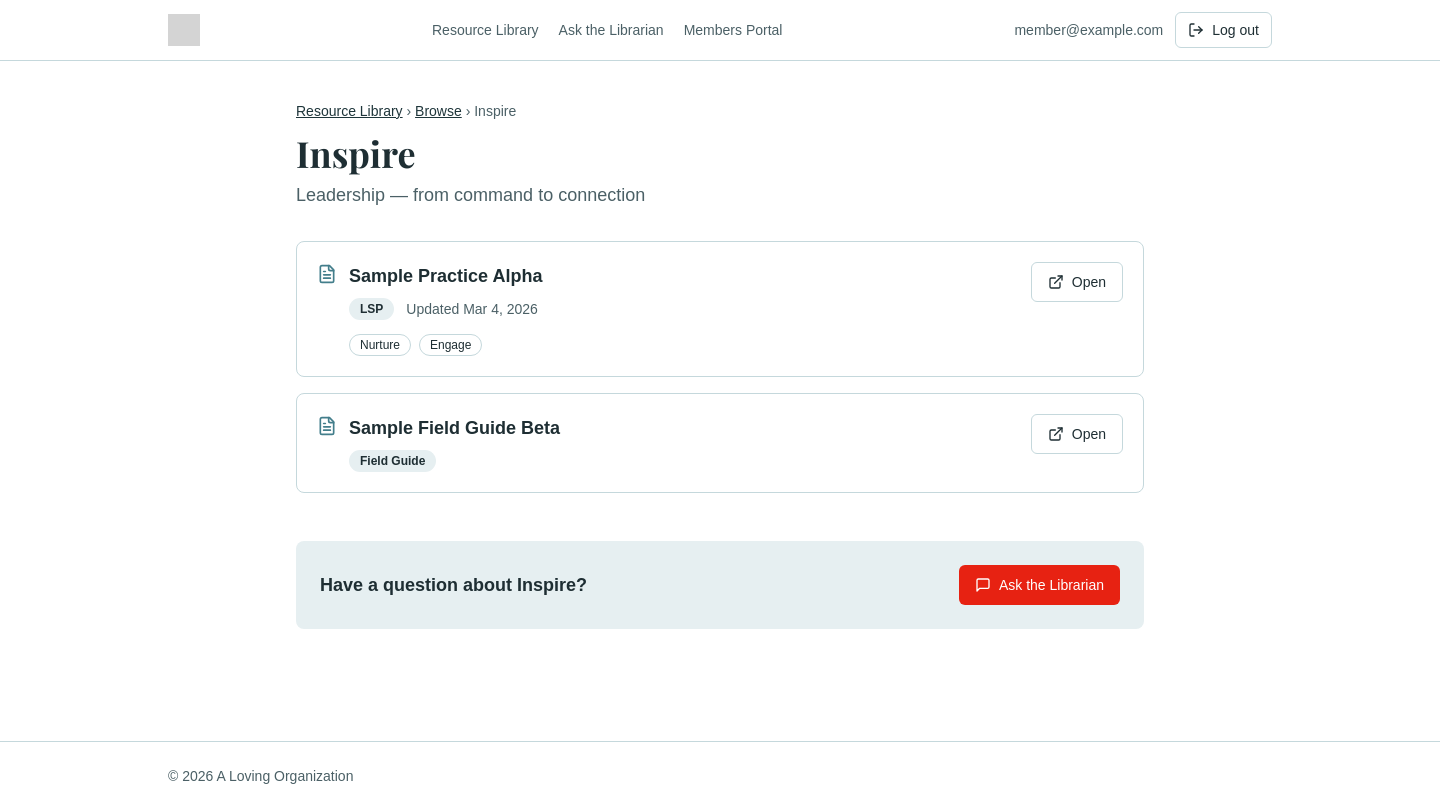
it: INTEGRATE System folder › Open › asks the Member to allow pop-ups when the browser blocks the new tab
The image size is (1440, 810).
Step 1. Click the button "Open" in the row of "Sample Practice Alpha" → [1077, 282], box [1031, 262, 1123, 302]
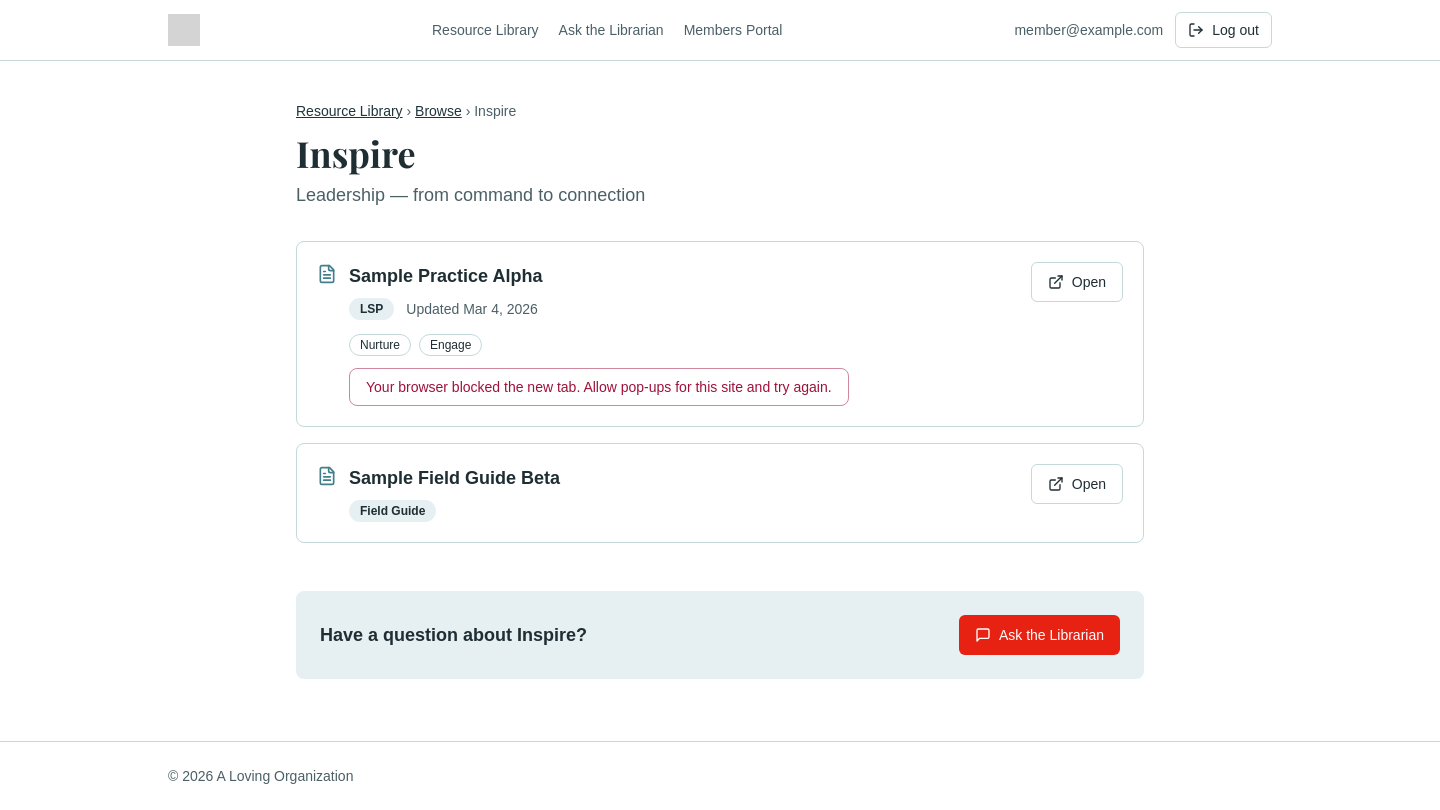
Result: the message shows "Allow pop-ups" at [366, 379, 832, 395]
